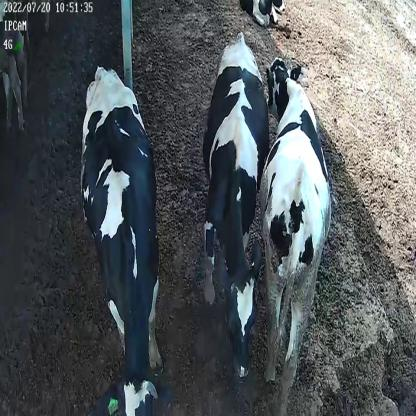cow: (77, 62, 167, 416), (254, 53, 334, 415), (198, 28, 274, 384), (239, 0, 286, 30)
